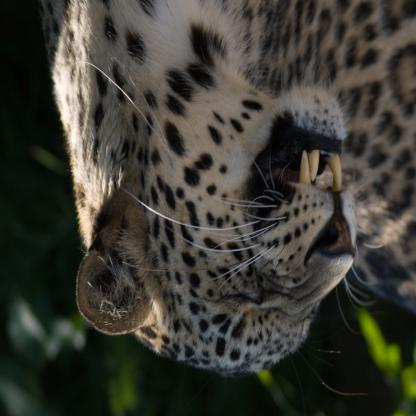leopard: (69, 61, 356, 375)
